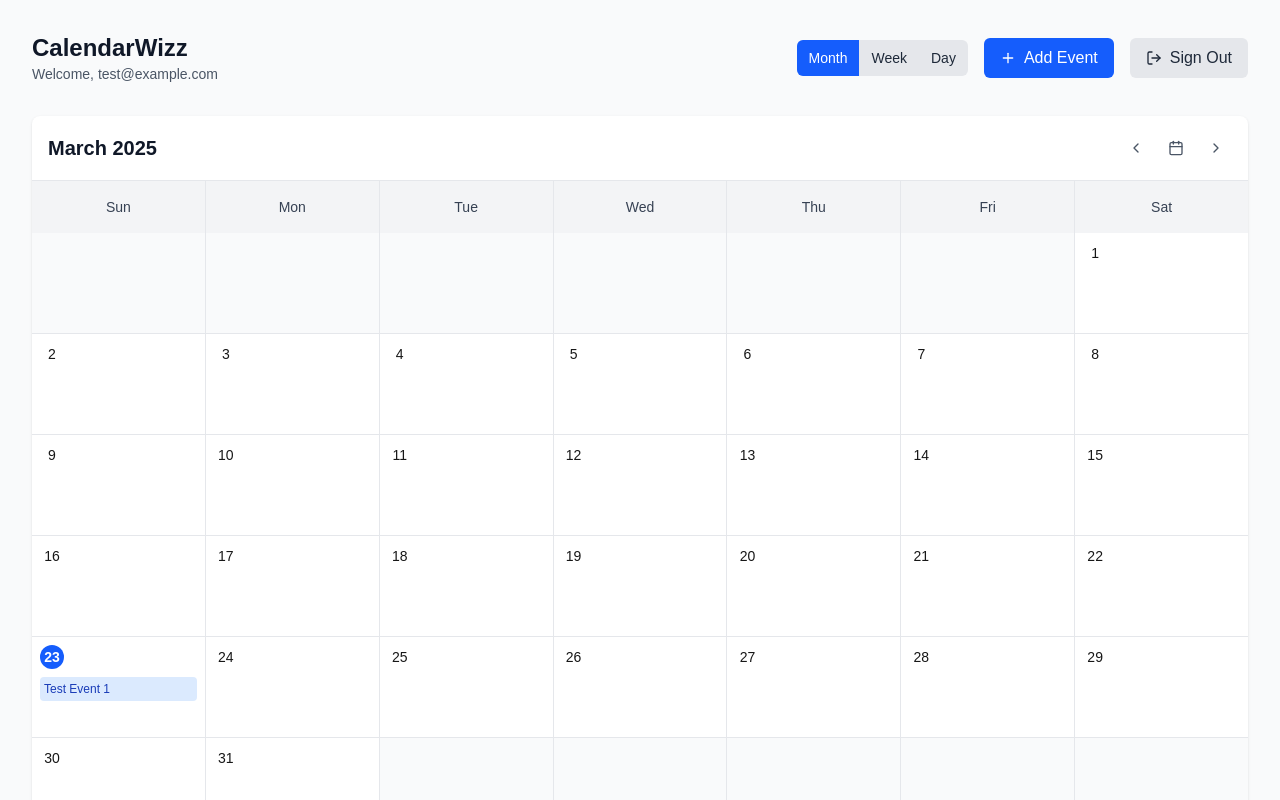
Calendar Component › navigates to next month when clicking next button
What coordinates should you click on to do the following:
click the 8th button
I would click on:
 (1216, 148)
Its box is [1200, 132, 1232, 164].
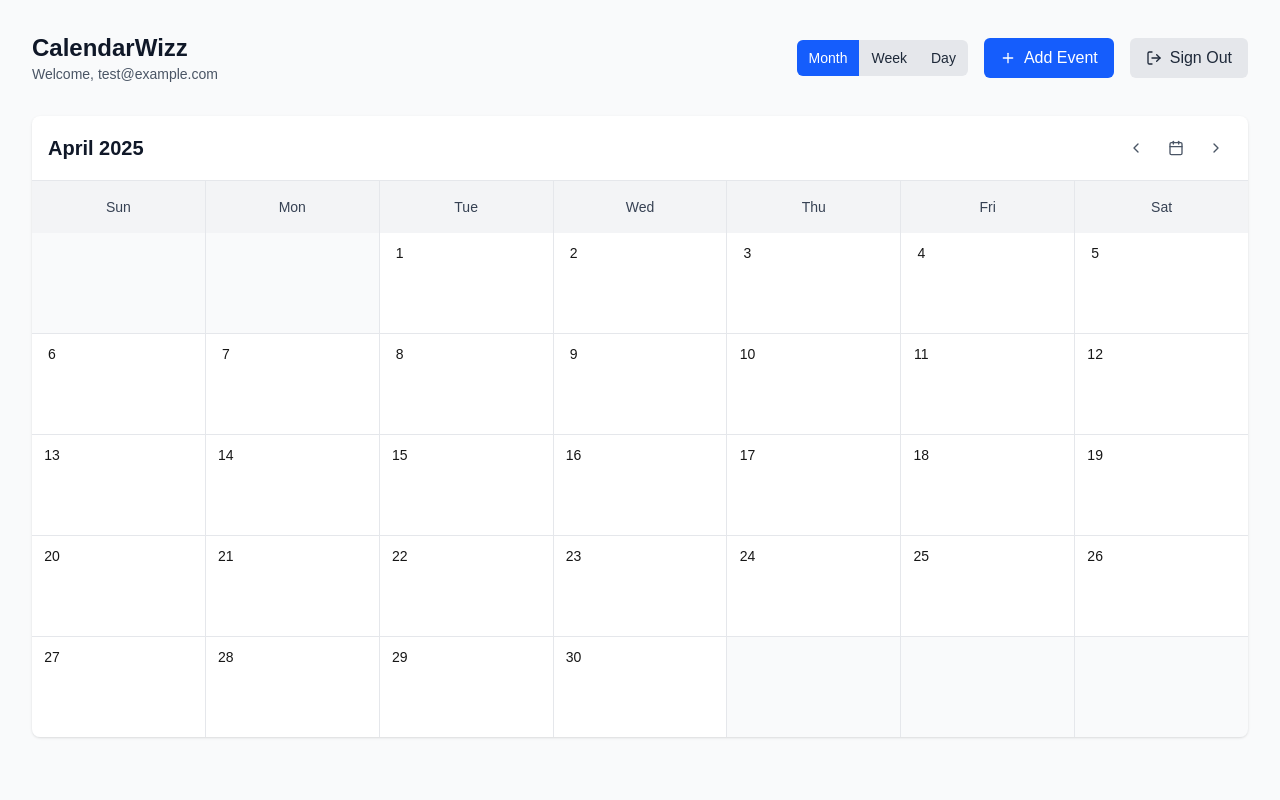
Expected: the heading "April 2025" is shown, [48, 134, 144, 162]
